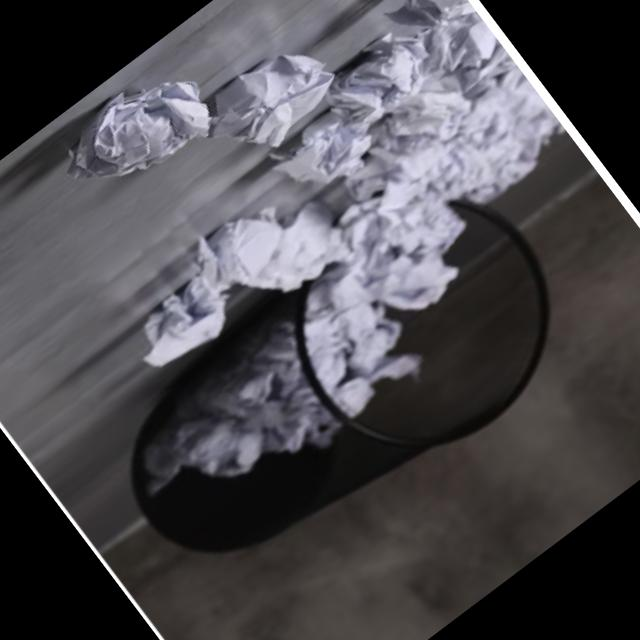KertasBekas: (1, 0, 633, 510), (46, 51, 226, 216), (190, 27, 353, 178)
